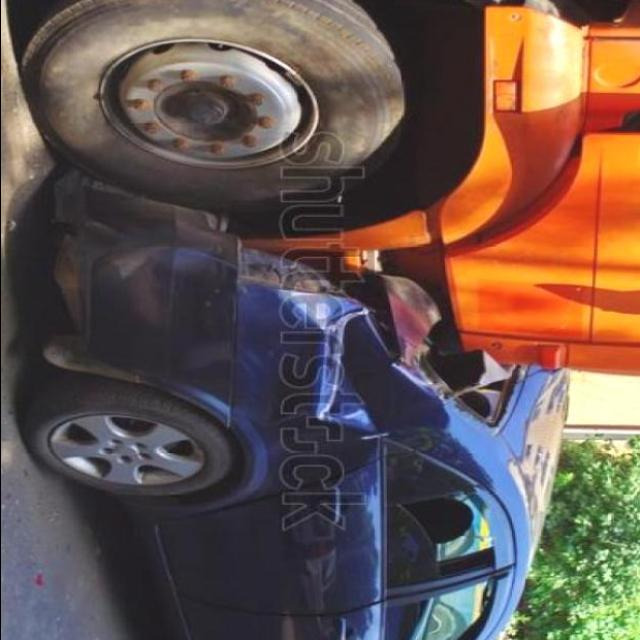accident: (84, 0, 640, 618)
